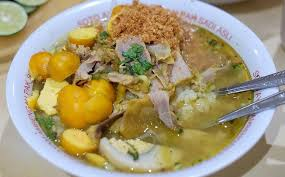soto: (13, 3, 270, 176)
